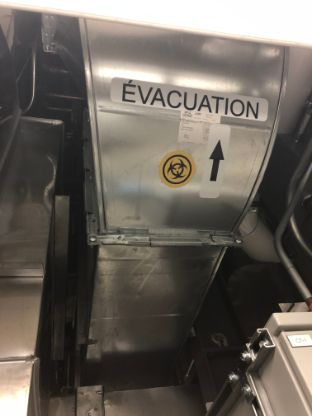Duct: (72, 11, 293, 367), (1, 112, 67, 416)
